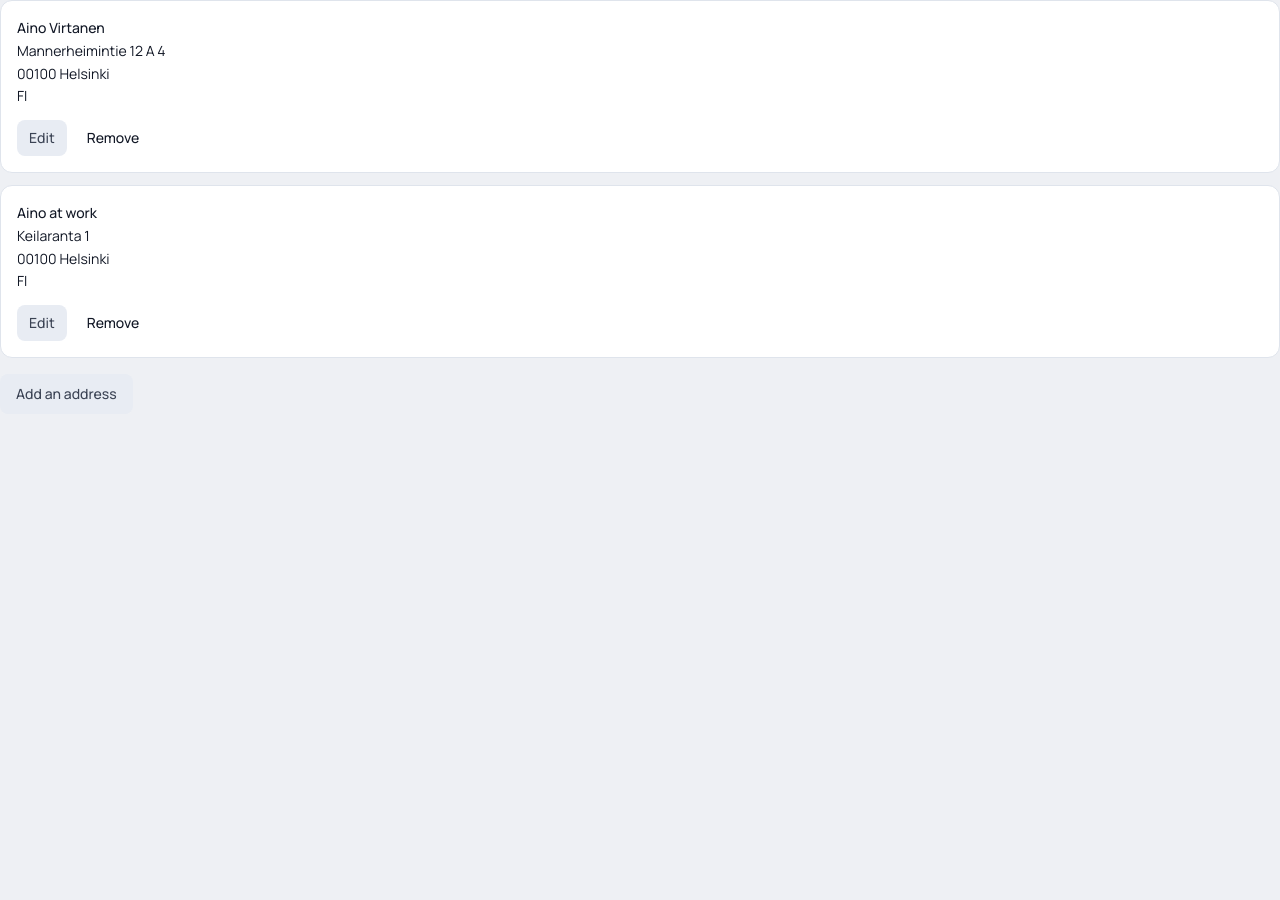
Scenario: SavedAddresses › opens an entry for editing and holds the other buttons while it is open
Click the button with aria-label "Edit Aino Virtanen": [42, 138] box [17,120,67,156]
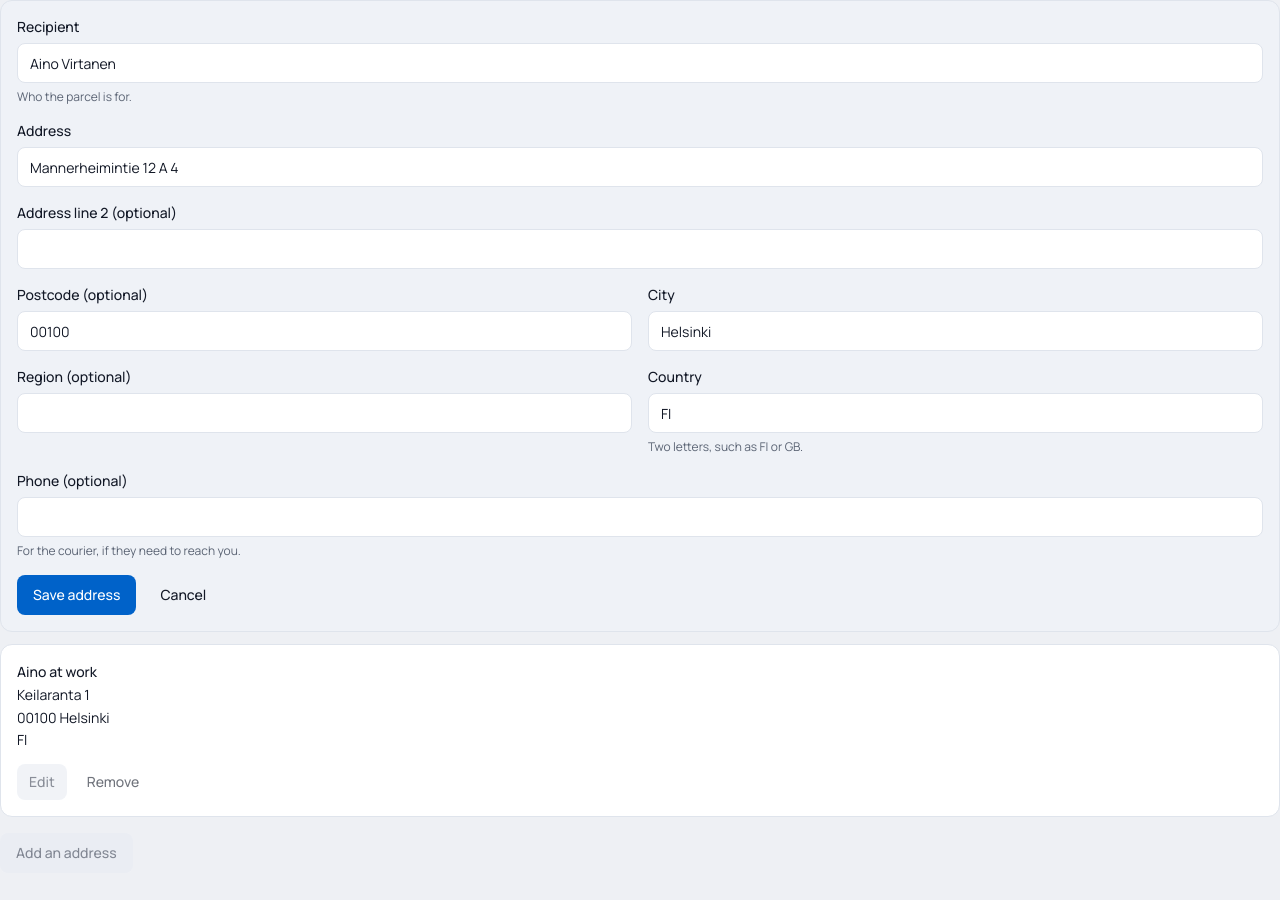
expect the form named "Edit address" is shown: met
expect the field labelled "Address" holds "Mannerheimintie 12 A 4": met, box [17,147,1263,187]
expect the button with aria-label "Edit Aino at work" is disabled: met, box [17,764,67,800]
